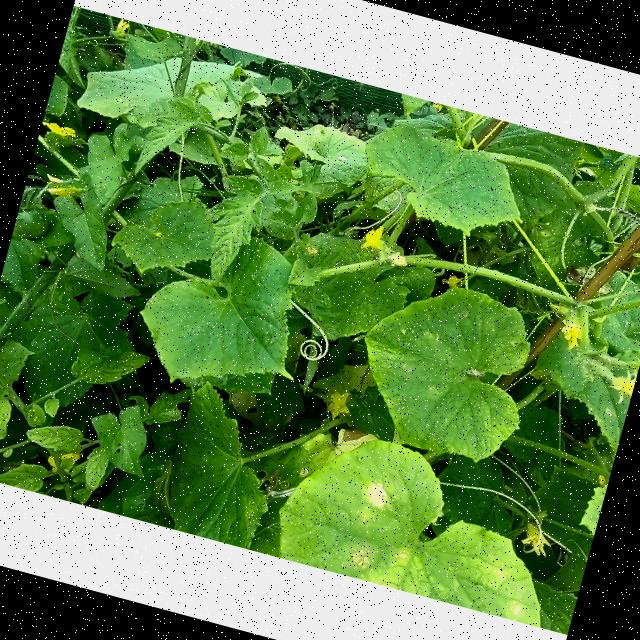Flowers: (37, 118, 88, 156), (515, 520, 554, 560), (44, 172, 89, 205), (605, 364, 637, 408), (44, 444, 82, 480), (556, 312, 588, 352), (322, 388, 357, 422), (358, 222, 388, 256), (106, 16, 134, 44), (440, 270, 465, 294)
